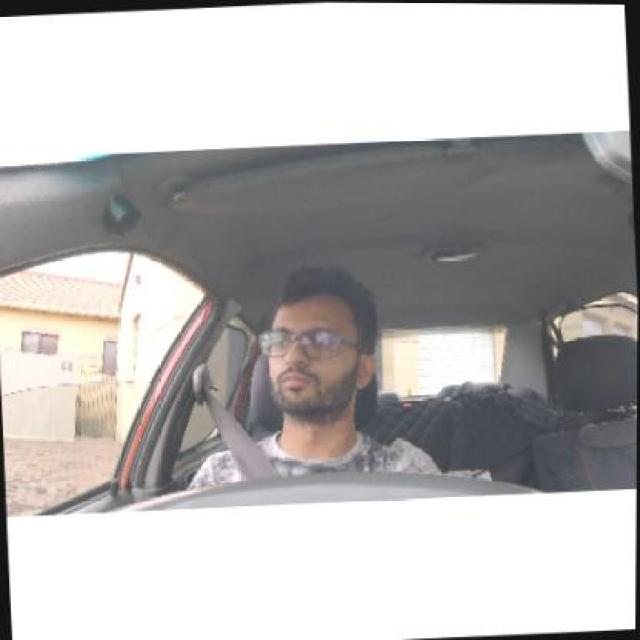person: (252, 260, 390, 425)
